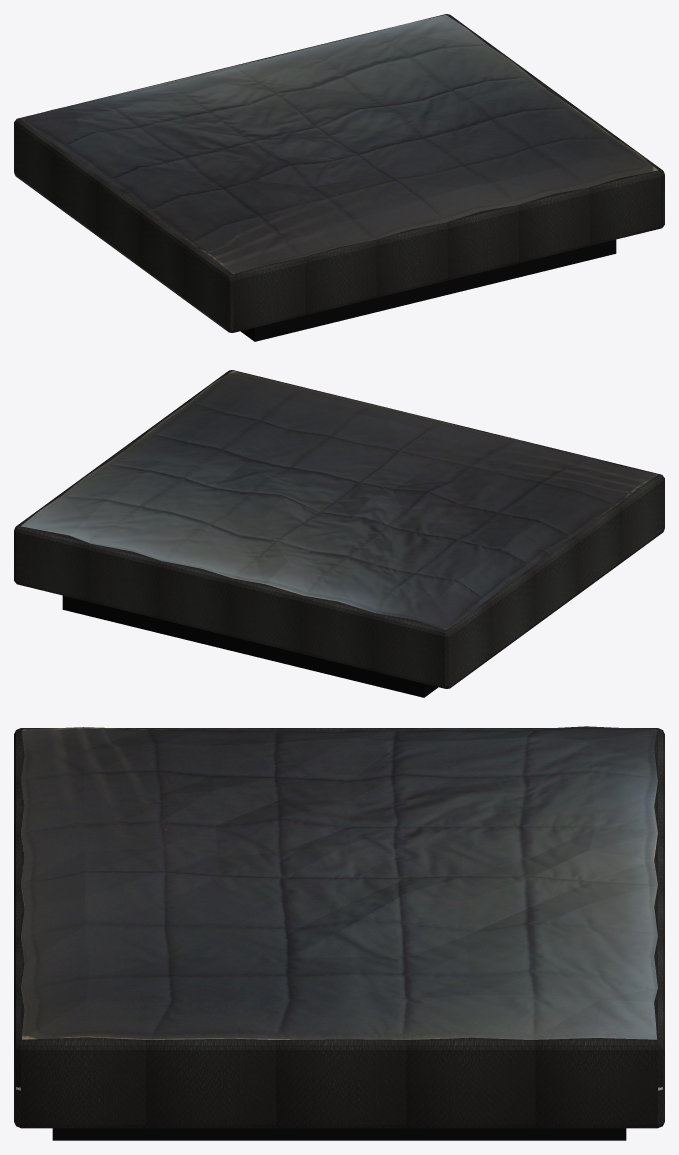
Rendered from bed.dae.
The picture shows the model from 3 angles, top to bottom: view 1: azimuth 30°, elevation 25°; view 2: azimuth 150°, elevation 25°; view 3: azimuth 270°, elevation 25°; orthographic projection. The views are drawn at different scales.
Parts seen in each view (by area): view 1: mouhu, obj2, obj1, under; view 2: mouhu, obj2, obj1, under; view 3: mouhu, obj1, under, obj2 (×2).
Boxes of the visible parts, <box> form: mouhu: <box>21,14,657,273</box>; obj2: <box>230,170,664,332</box>; obj1: <box>14,14,664,332</box>; under: <box>240,239,616,341</box>; mouhu: <box>21,371,657,629</box>; obj2: <box>14,526,448,688</box>; obj1: <box>14,370,664,688</box>; under: <box>62,595,438,697</box>; mouhu: <box>21,726,657,1039</box>; obj1: <box>16,728,662,1128</box>; under: <box>52,1128,626,1140</box>; obj2 (×2): <box>14,728,664,1126</box>.
Size of the model in its own units: 86.58 by 74.78 by 17.82.
3 materials, 2 textured.
